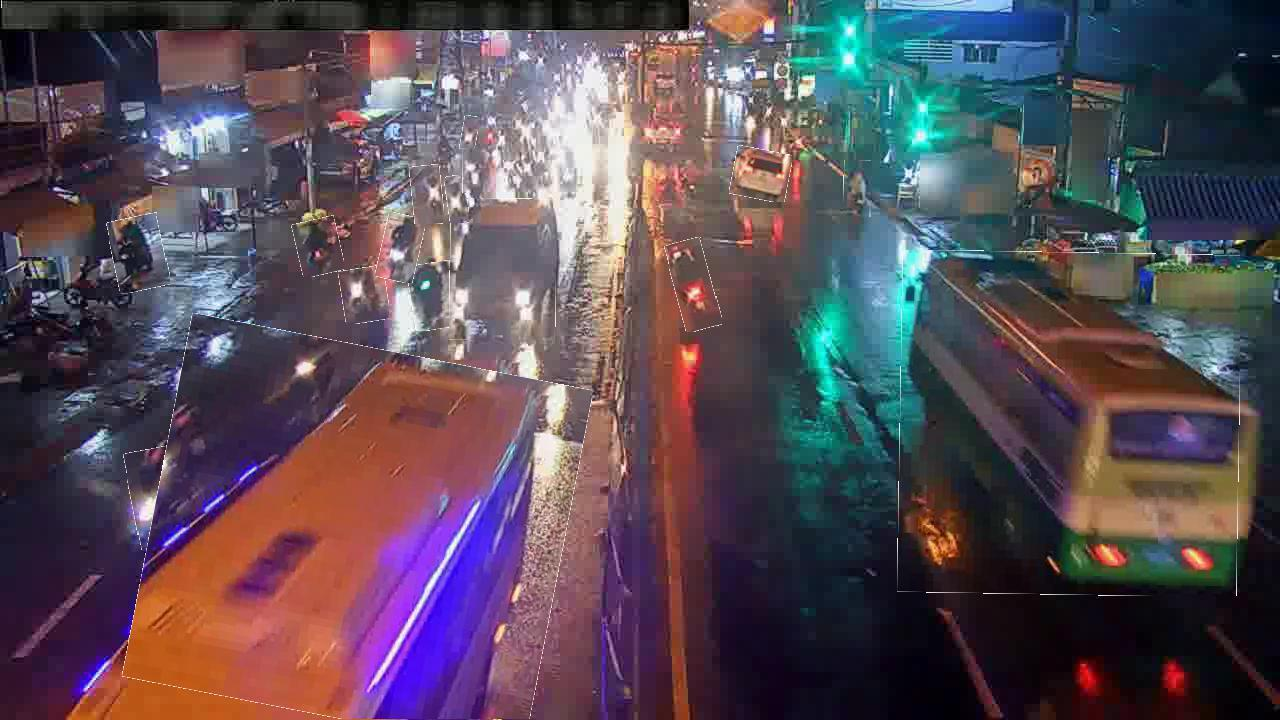14: (138, 331, 578, 719), (899, 252, 1240, 596), (450, 199, 557, 341)
container: (731, 148, 791, 201)
motorbike: (242, 342, 313, 446), (128, 447, 188, 551), (670, 238, 718, 332), (110, 215, 168, 292), (409, 262, 458, 331), (379, 214, 423, 283), (294, 217, 343, 276), (340, 266, 389, 324), (411, 165, 444, 225), (844, 160, 872, 218), (446, 176, 469, 224), (462, 148, 483, 194), (461, 116, 478, 150)
